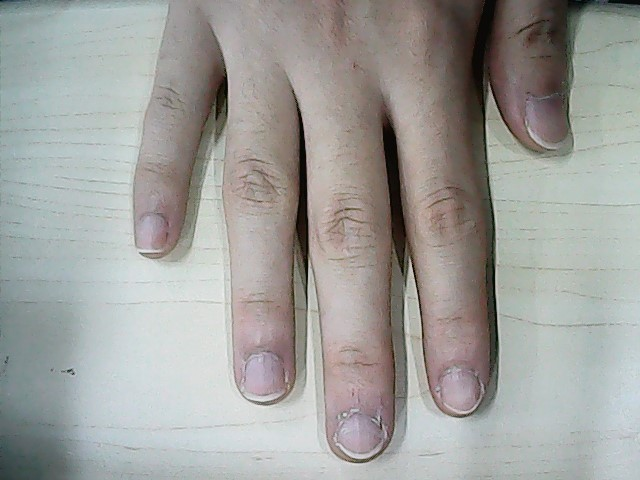nail: (524, 94, 569, 152), (336, 413, 385, 460), (242, 352, 285, 403), (439, 369, 482, 415), (135, 213, 165, 253)
